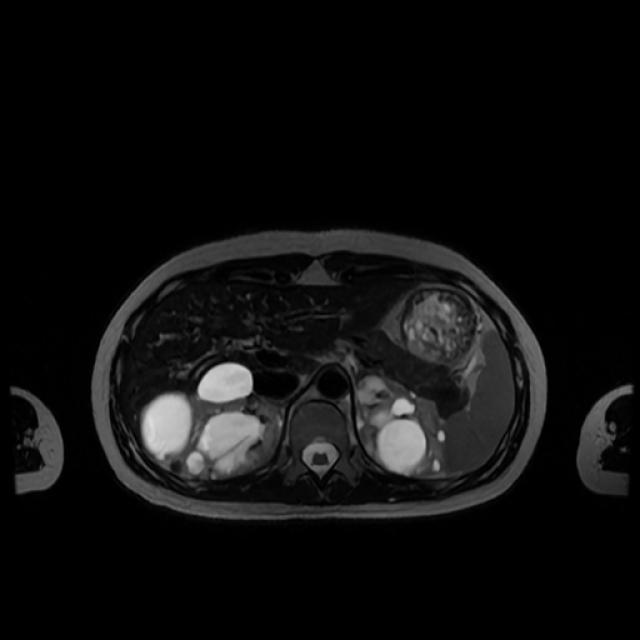sag: (139, 361, 287, 480)
sol: (352, 374, 448, 482)
